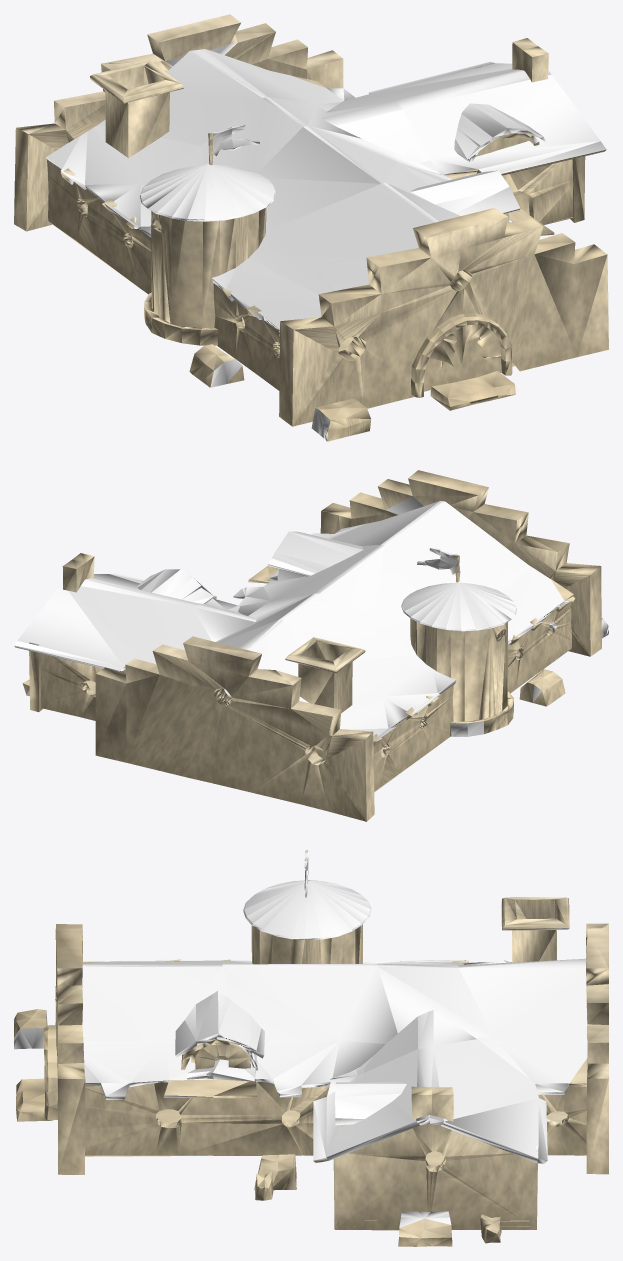
The model's file is castle_d1.4.glb.
The picture shows the model from 3 angles, top to bottom: view 1: azimuth 30°, elevation 25°; view 2: azimuth 150°, elevation 25°; view 3: azimuth 270°, elevation 25°; orthographic projection. The views are drawn at different scales.
Visible parts, largest first — view 1: castle_d1.4; view 2: castle_d1.4; view 3: castle_d1.4.
Boxes of the visible parts, bbox=[...] form: castle_d1.4: bbox=[14, 14, 608, 441]; castle_d1.4: bbox=[14, 470, 608, 821]; castle_d1.4: bbox=[14, 850, 608, 1246].
Size of the model in its own units: 2.7 by 1.05 by 2.9.
Materials: 2 (1 with a texture image).
